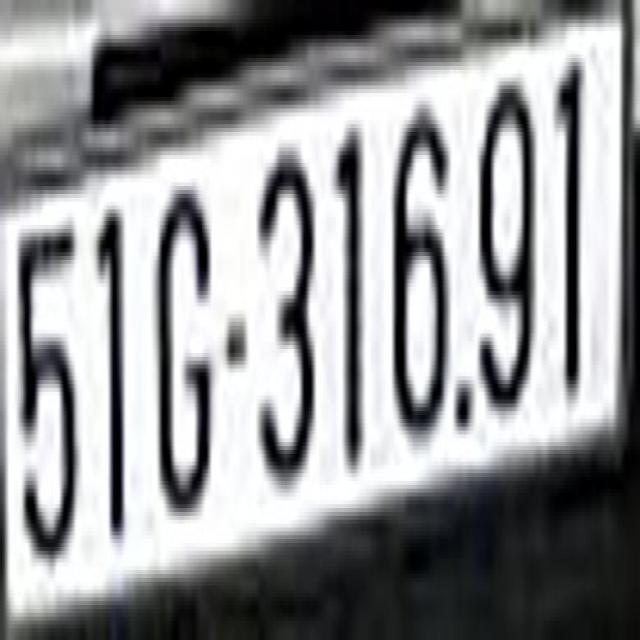1: (90, 186, 136, 551), (550, 27, 592, 419), (328, 109, 370, 478)
3: (255, 112, 318, 496)
5: (12, 214, 82, 566)
6: (388, 85, 452, 450)
9: (477, 62, 540, 419)
G: (152, 170, 214, 528)
